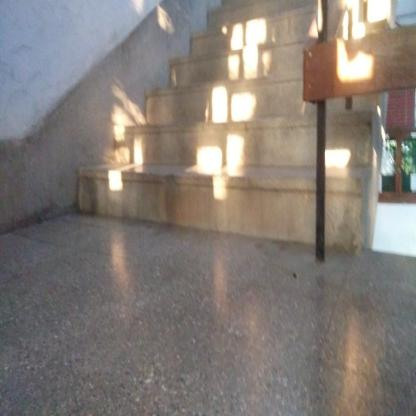stairs: (196, 43, 301, 258)
